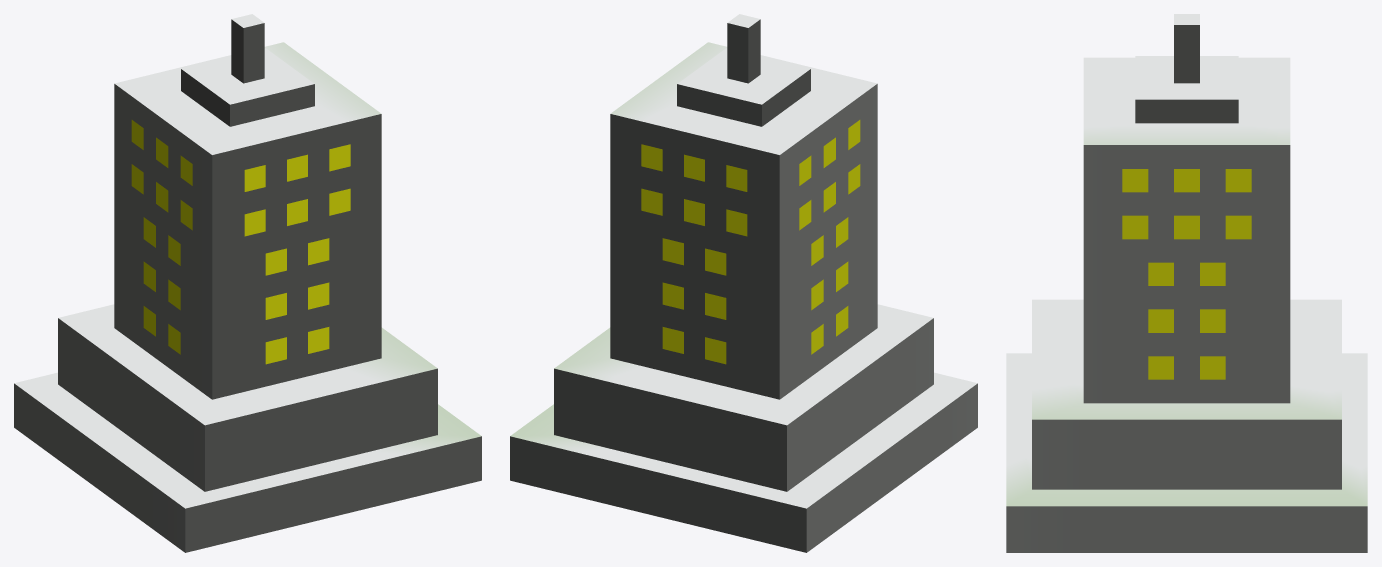
Rendered from HQ.OrangeStar.GreySky.Snow.glb.
3 renders of one model, left to right at view 1: azimuth 30°, elevation 25°; view 2: azimuth 150°, elevation 25°; view 3: azimuth 270°, elevation 25°, orthographic. The views are drawn at different scales.
Parts seen in each view (by area): view 1: HQ.OrangeStar.GreySky.Snow; view 2: HQ.OrangeStar.GreySky.Snow; view 3: HQ.OrangeStar.GreySky.Snow.
Part boxes in pixels (bbox=[...]): HQ.OrangeStar.GreySky.Snow: bbox=[14, 14, 481, 552]; HQ.OrangeStar.GreySky.Snow: bbox=[510, 14, 977, 552]; HQ.OrangeStar.GreySky.Snow: bbox=[1006, 14, 1367, 552].
Size of the model in its own units: 2.8 by 3.91 by 2.8.
2 materials, 1 textured.
